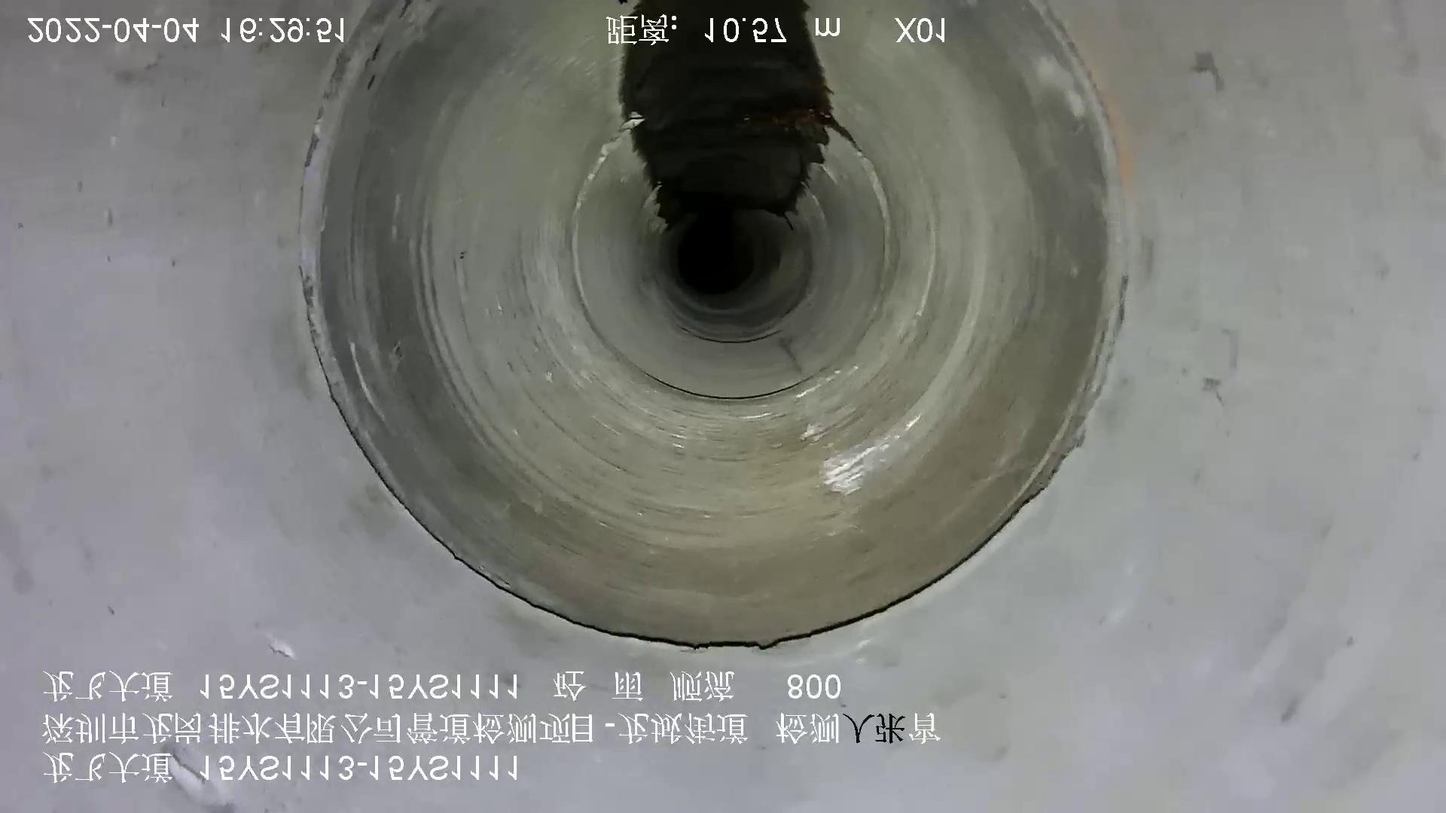CJ: (621, 1, 844, 222)
CKTJ: (294, 1, 1130, 654), (566, 112, 896, 402)
